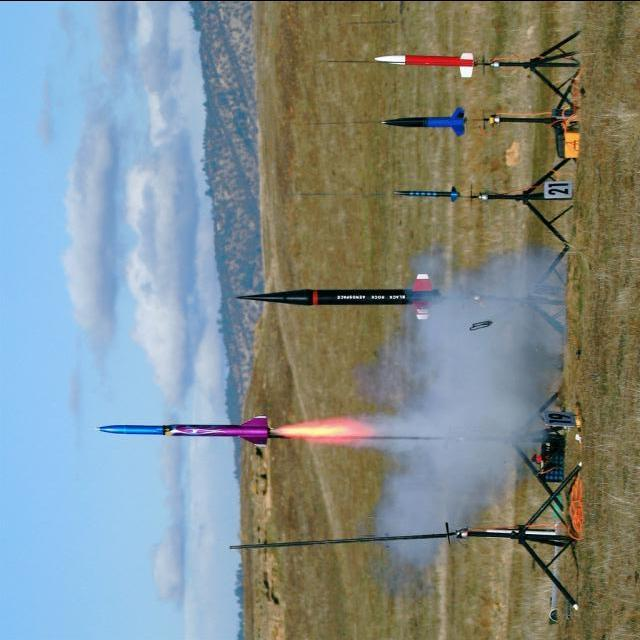missile: (236, 267, 445, 319), (92, 411, 275, 445), (381, 101, 469, 134), (372, 51, 474, 78), (387, 182, 463, 203)
